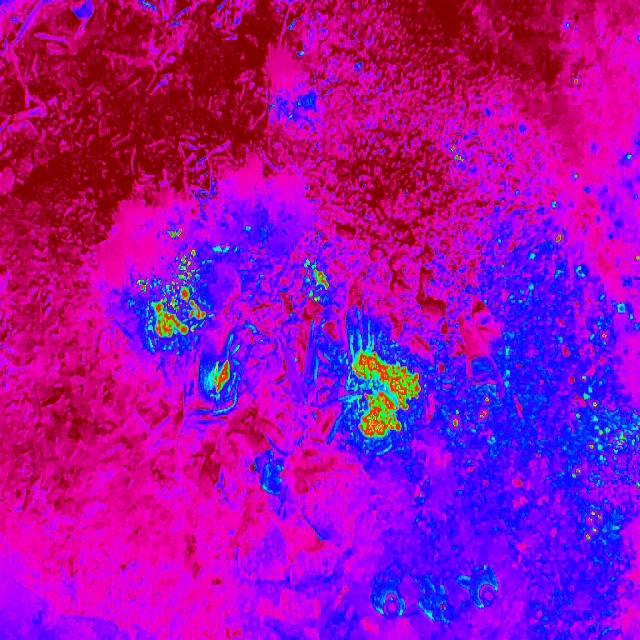fire: (546, 225, 640, 537), (344, 338, 422, 444), (138, 249, 208, 342), (448, 396, 496, 436), (304, 260, 332, 305), (203, 358, 234, 397), (448, 141, 469, 168), (161, 226, 183, 242)
